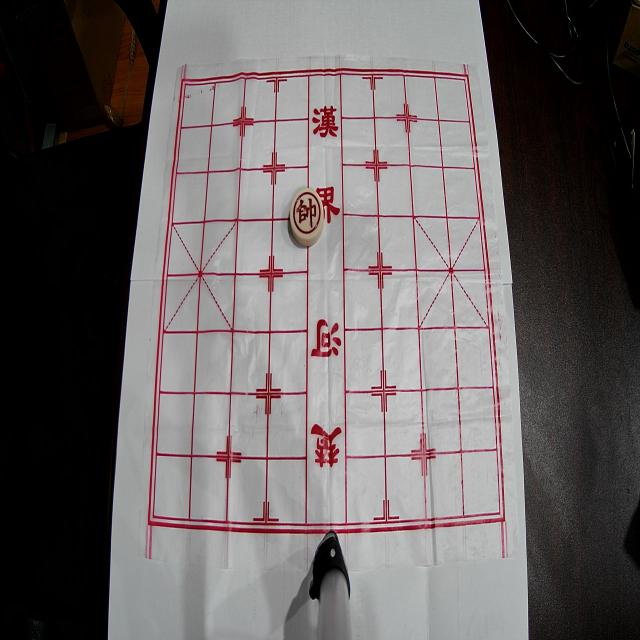red-general: (290, 188, 324, 246)
